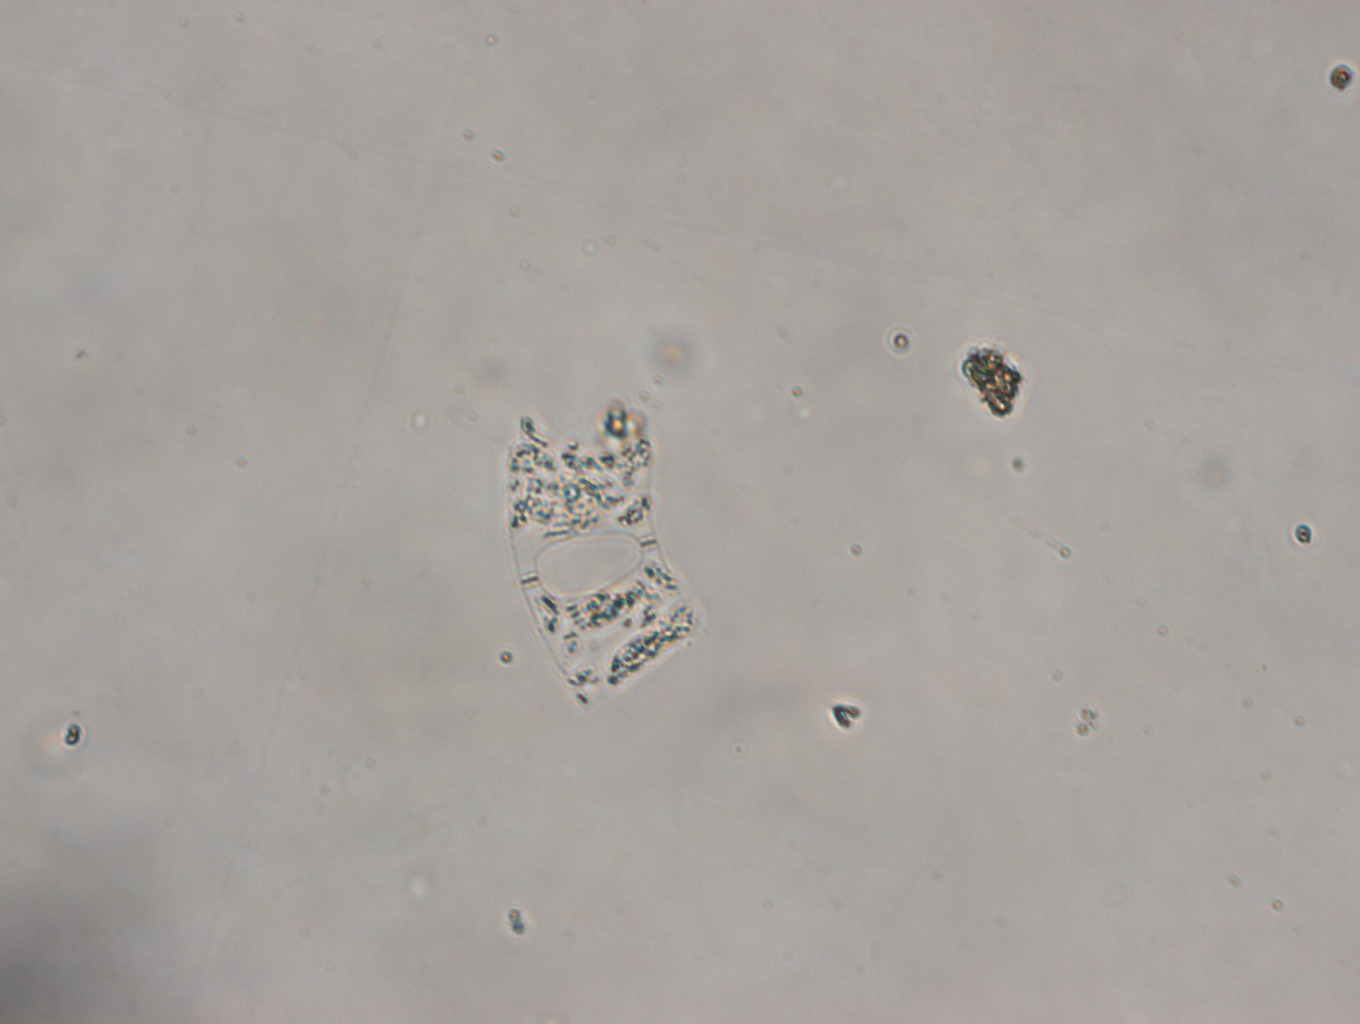eucampia: (501, 392, 704, 717)
